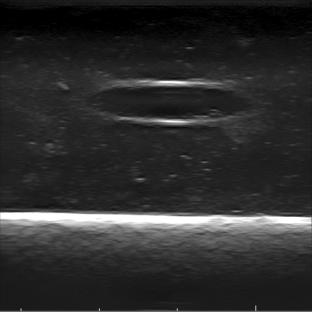vessel: (91, 79, 255, 126)
